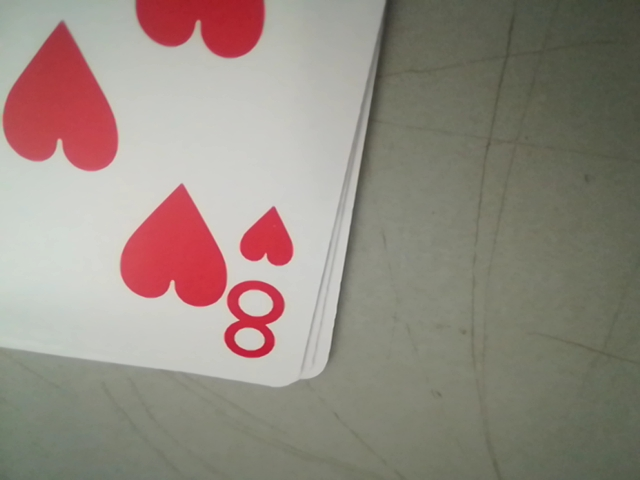hx 8: (225, 199, 311, 357)
